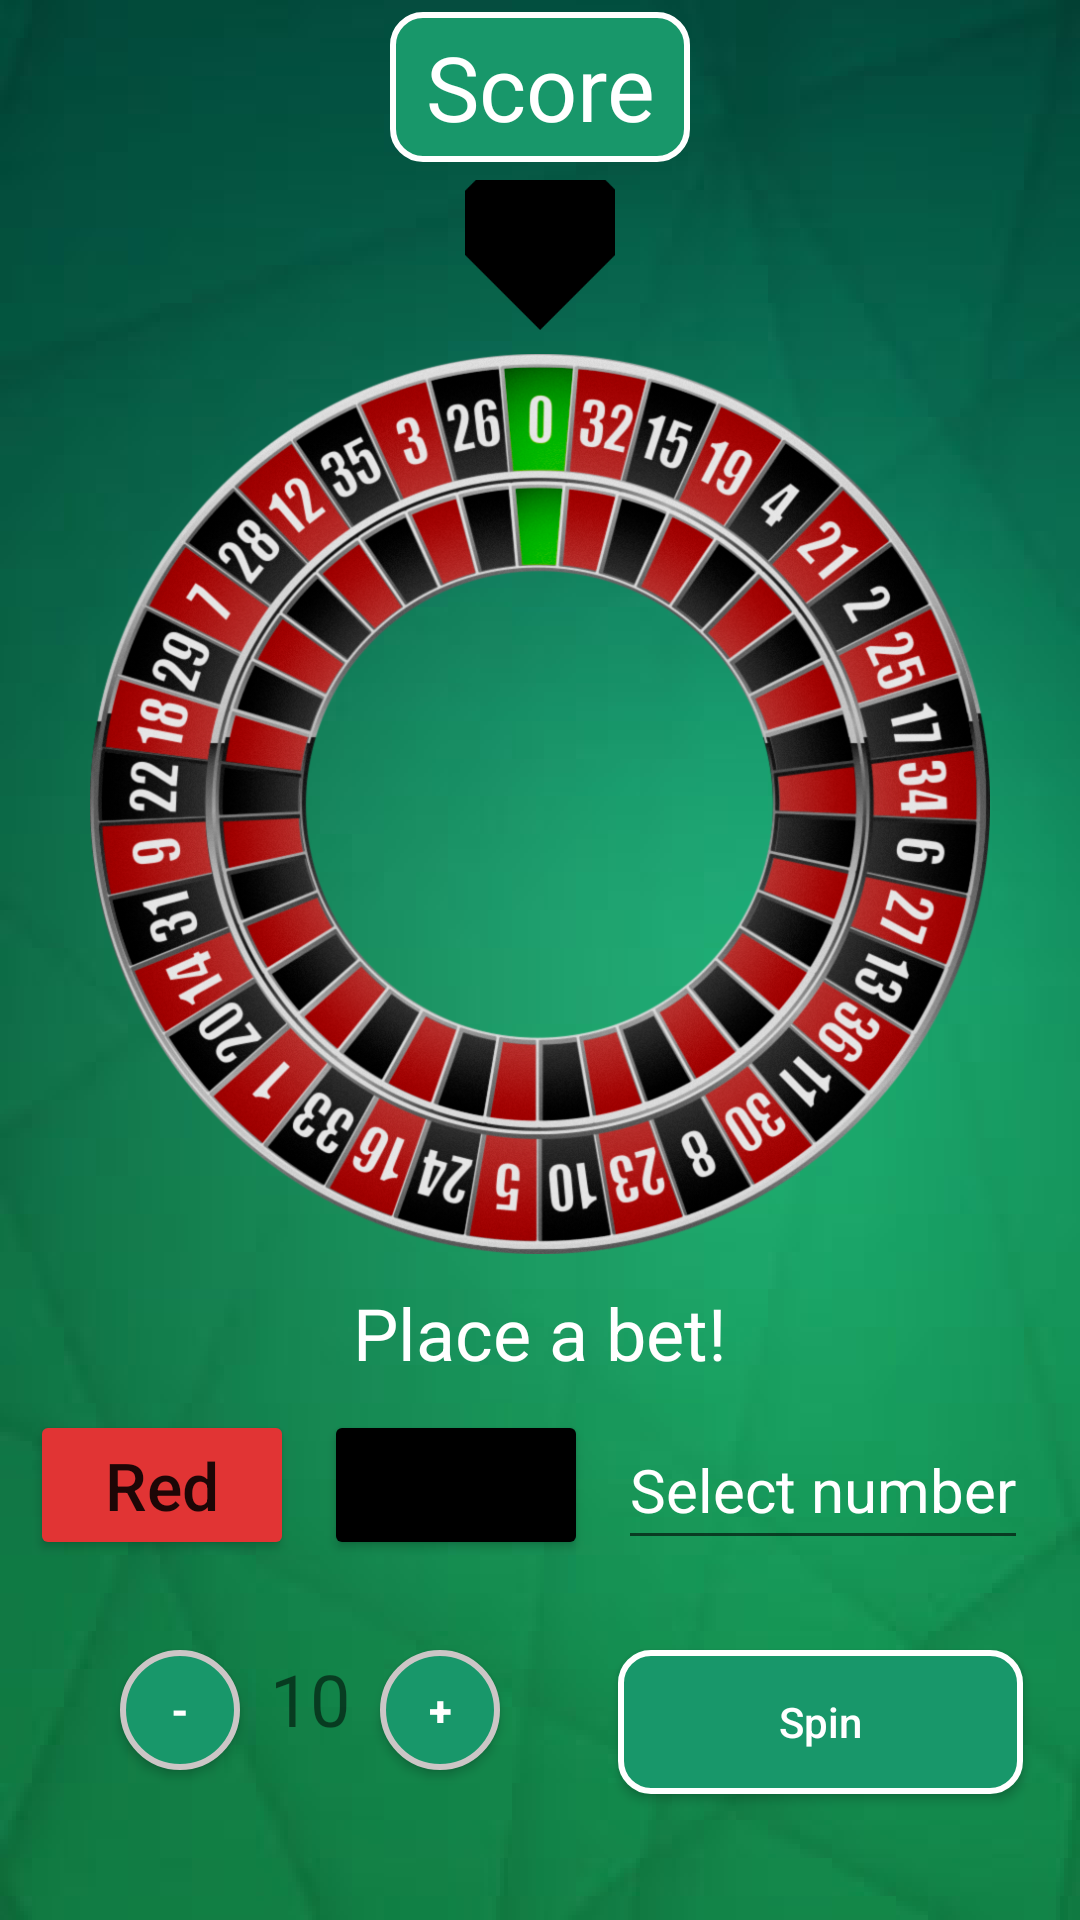

Locate icon controls on the screen. Image size 1080*1920, boxes as [x1, y1, x2, y2].
flecha: [465, 180, 615, 330]
